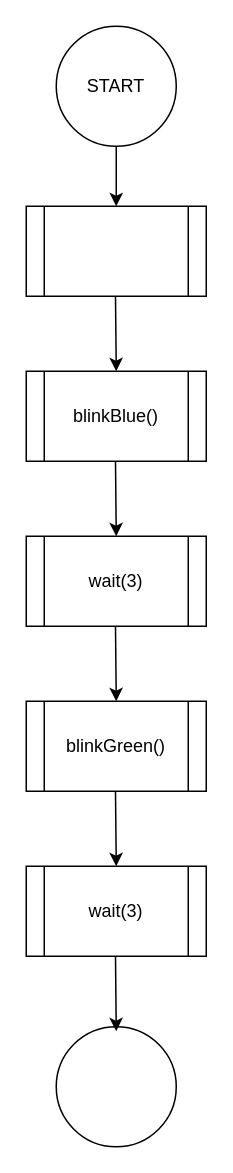
Some shapes in this 233 by 1173 pixel diagram are drawn without their labels. The box of each missing label's shape, as (x1, y1, x2, y2) in pixels:
Stop: (55, 1025, 176, 1147)
wait (3): (25, 205, 206, 296)
